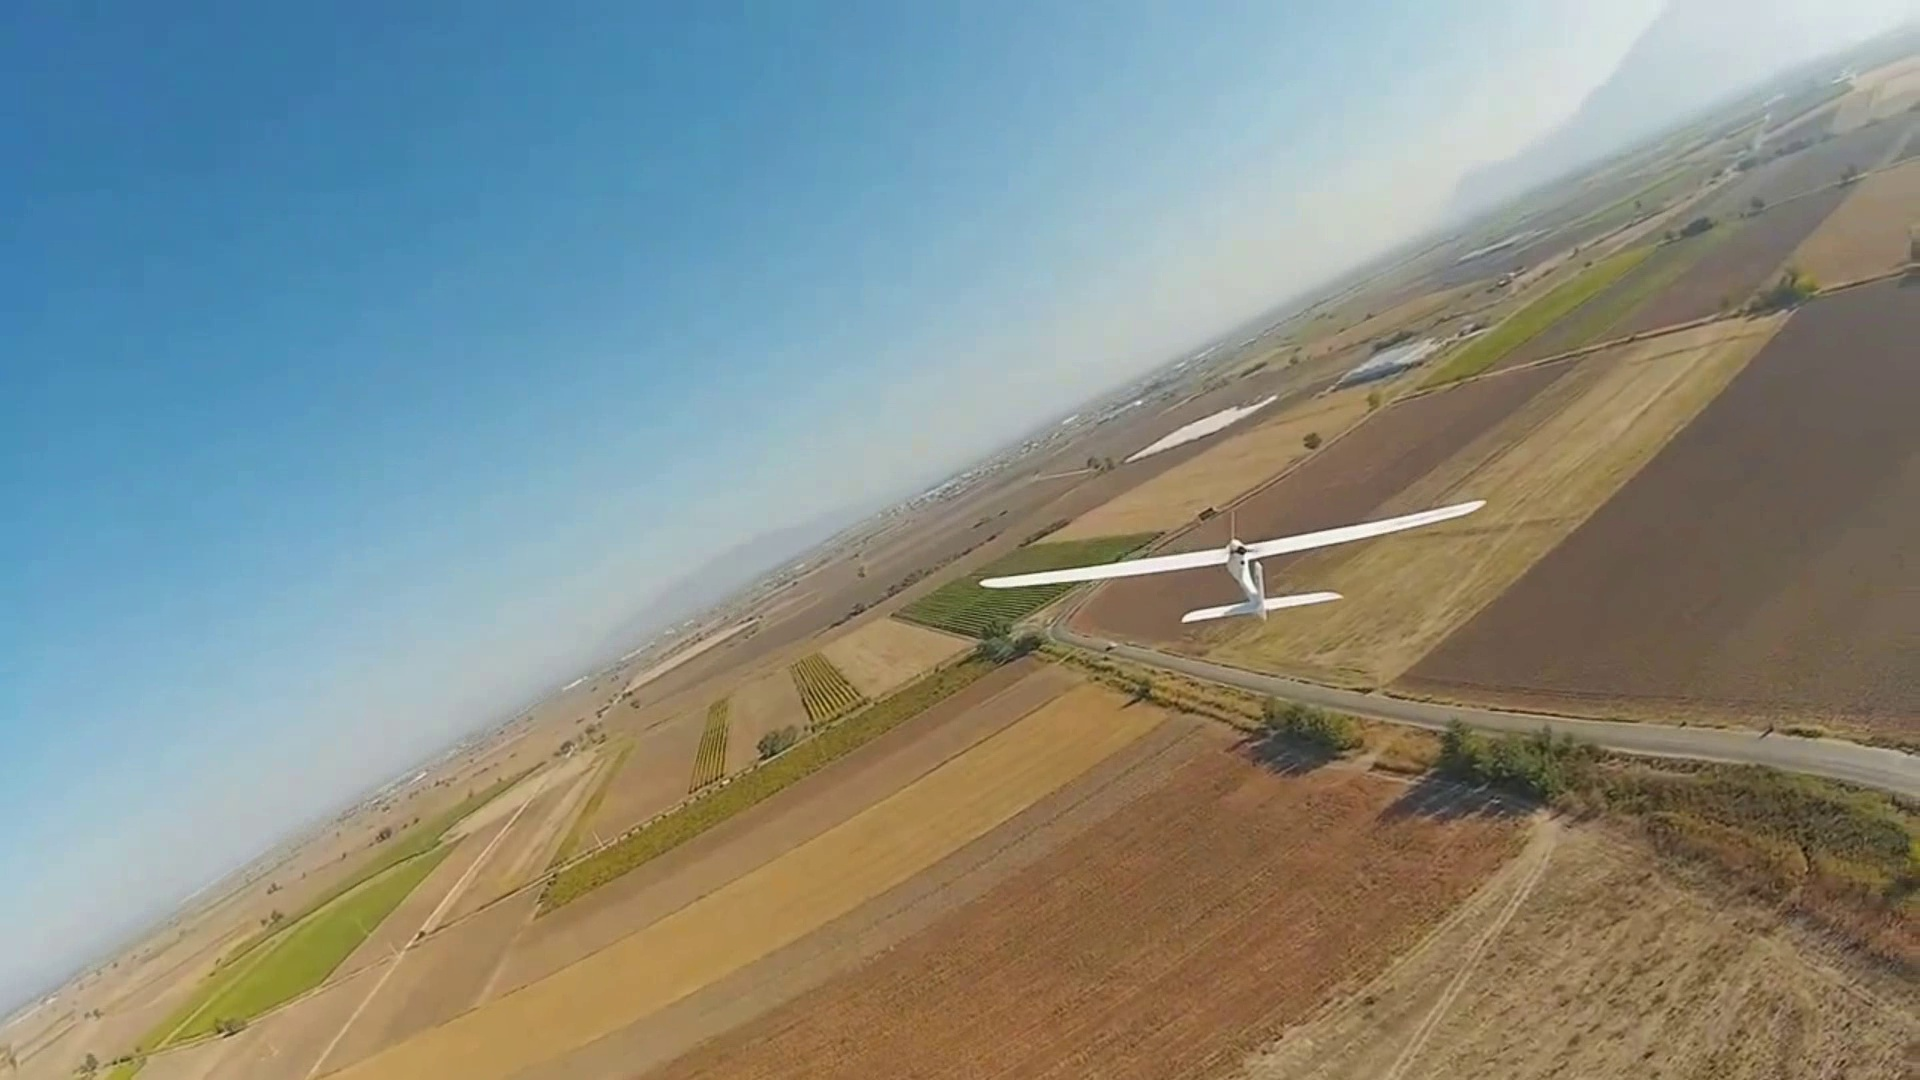airplane: (22, 41, 1917, 913)
